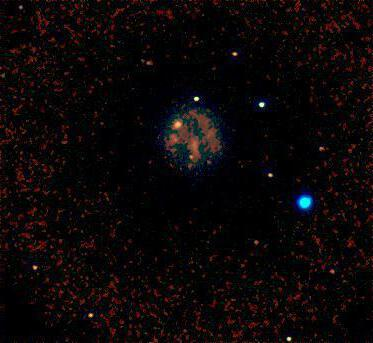star: (164, 112, 194, 142)
